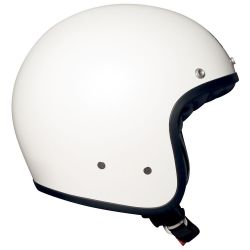with_helmet: (8, 1, 240, 210)
